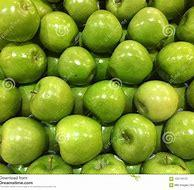apple: (0, 42, 58, 85), (54, 116, 109, 160), (130, 76, 180, 124), (0, 117, 46, 166), (29, 76, 78, 118), (110, 117, 157, 159), (123, 9, 173, 46), (0, 1, 42, 44), (153, 36, 194, 79), (85, 80, 129, 119), (108, 39, 147, 83), (42, 11, 82, 51), (138, 153, 193, 176)
